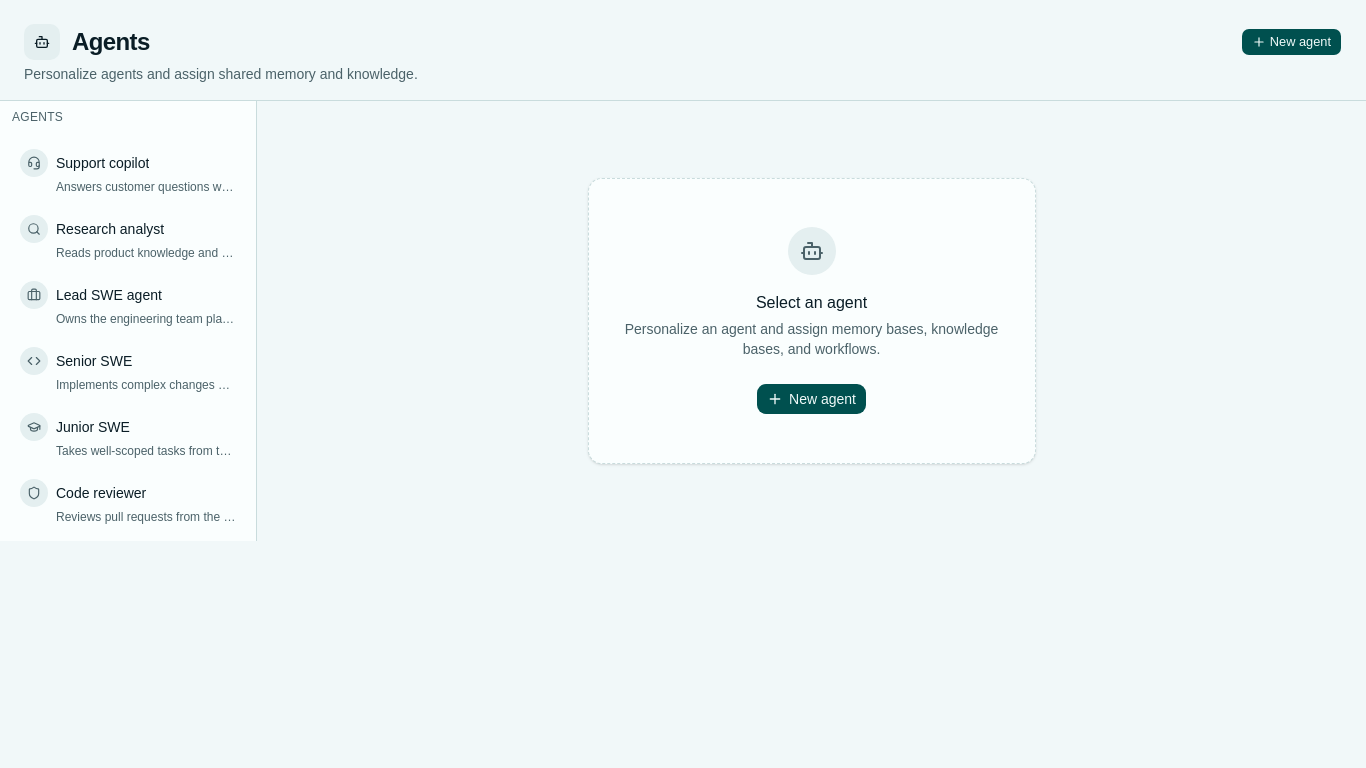
Test: AgentsPage › creates an agent from the name prompt
The image size is (1366, 768).
Click the 1st button "New agent" at (1291, 42), box [1241,28,1342,56]
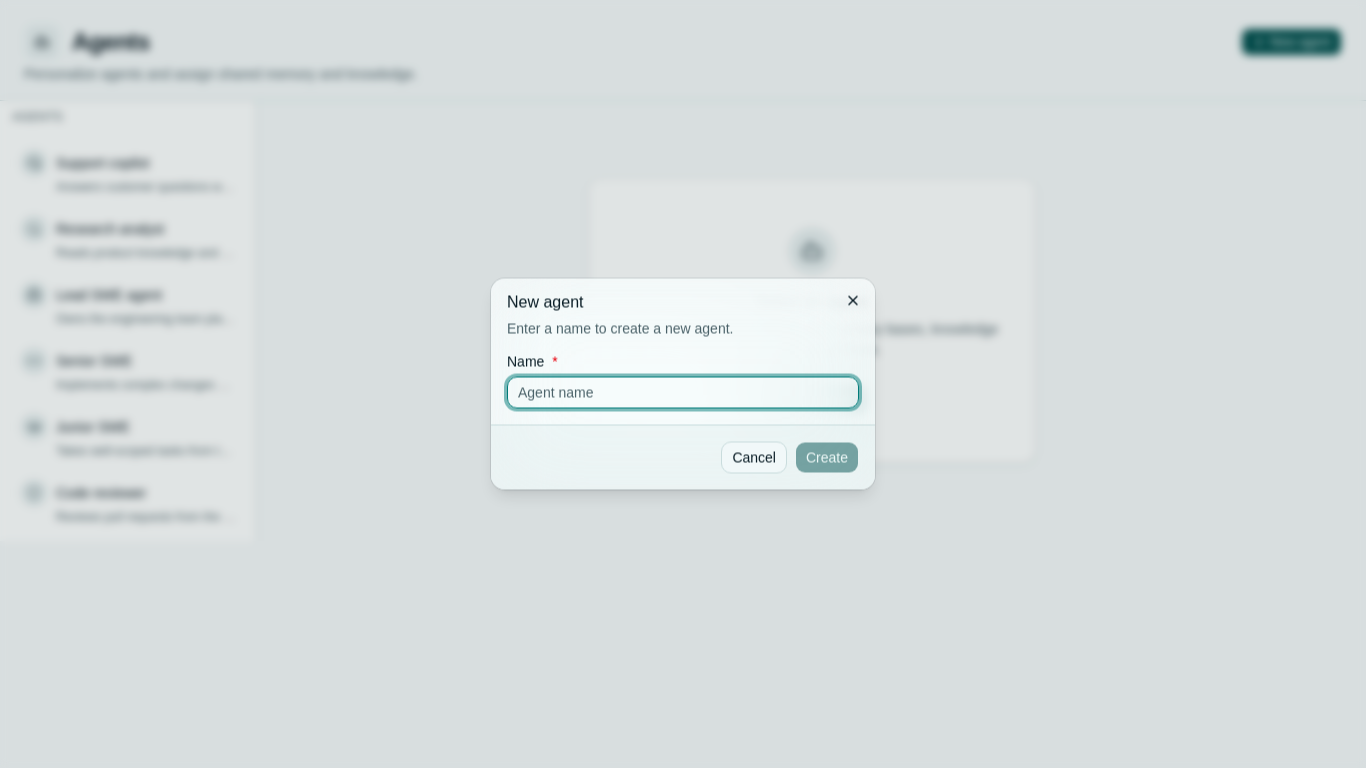
Type "Inbox triager" into the field labelled "Name *" at (683, 392), box [507,376,859,408]
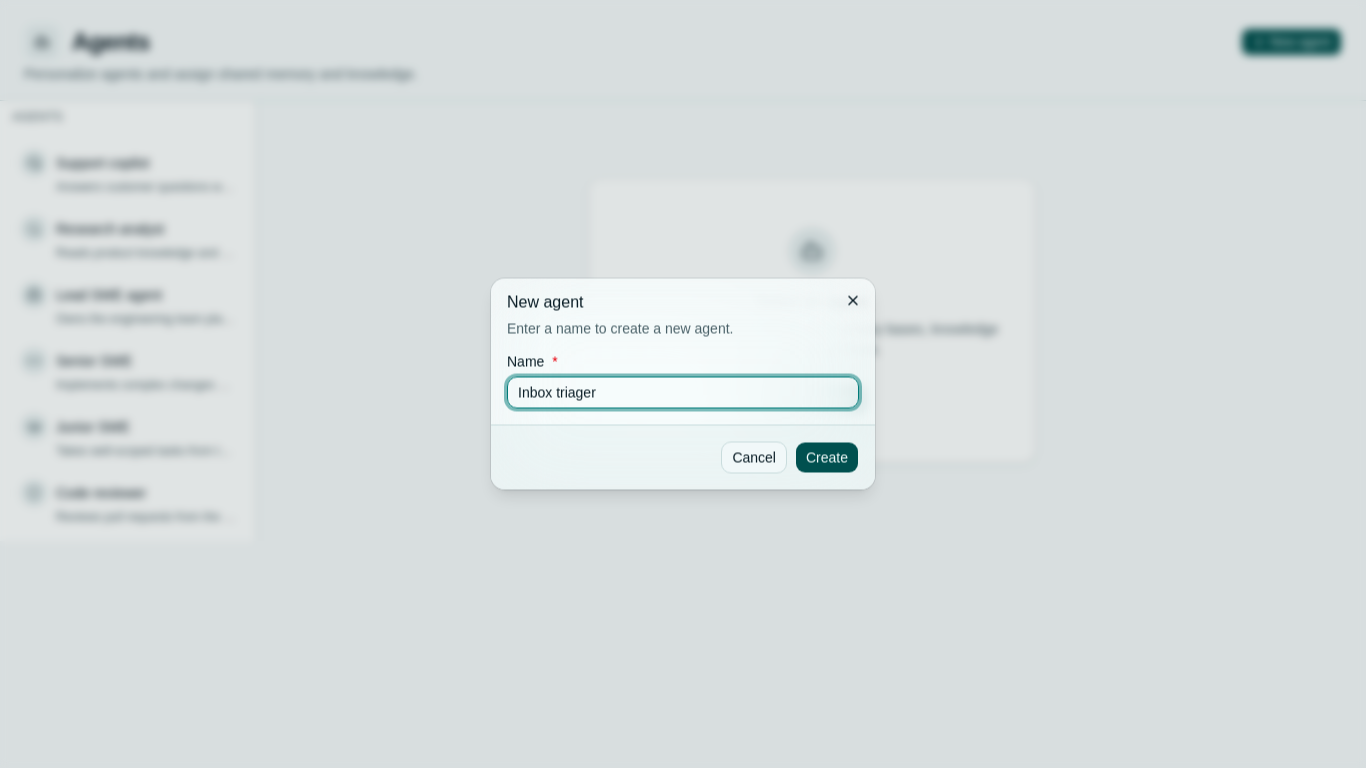
Click the button "Create" at (827, 458), box [795,442,859,474]
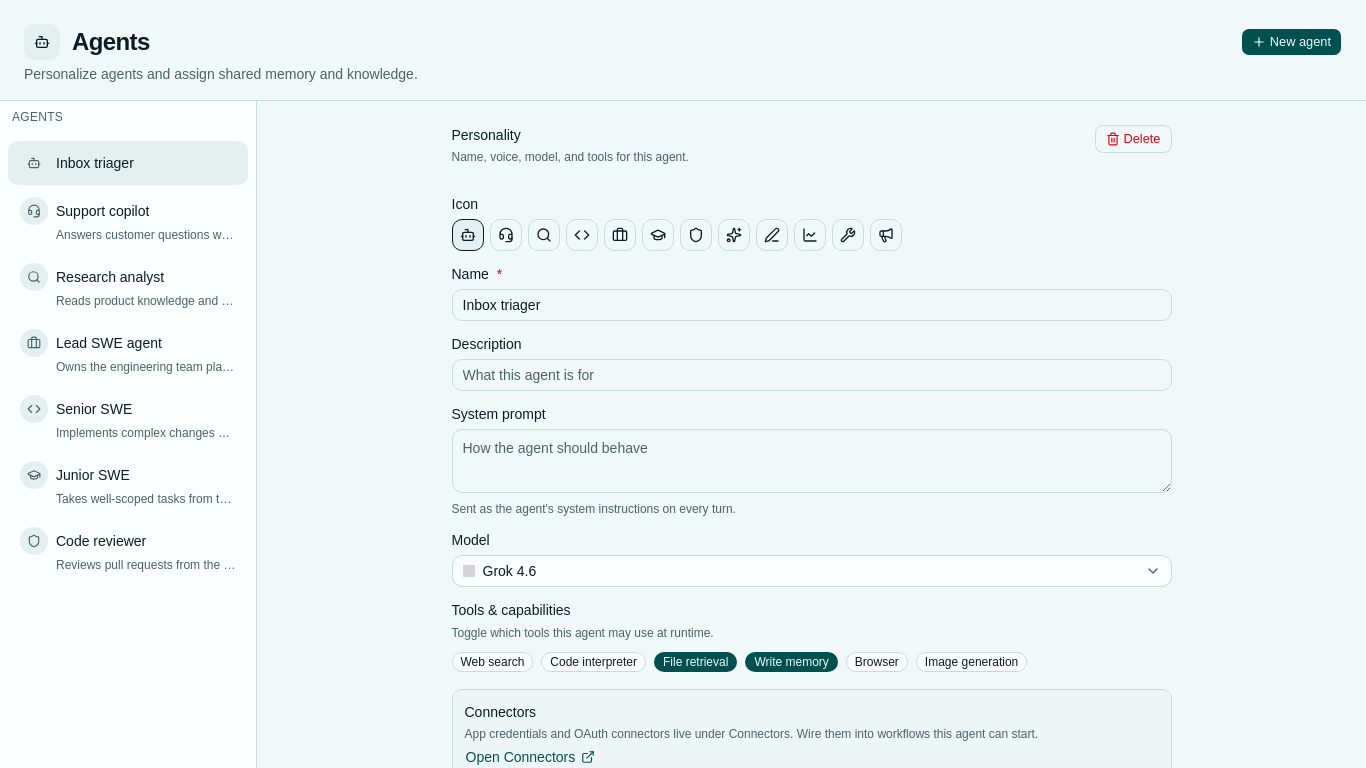
Expected: the link "Inbox triager" is shown, [8,141,248,185]
Expected: the field with id "agent-name" holds "Inbox triager", [452,289,1172,321]
